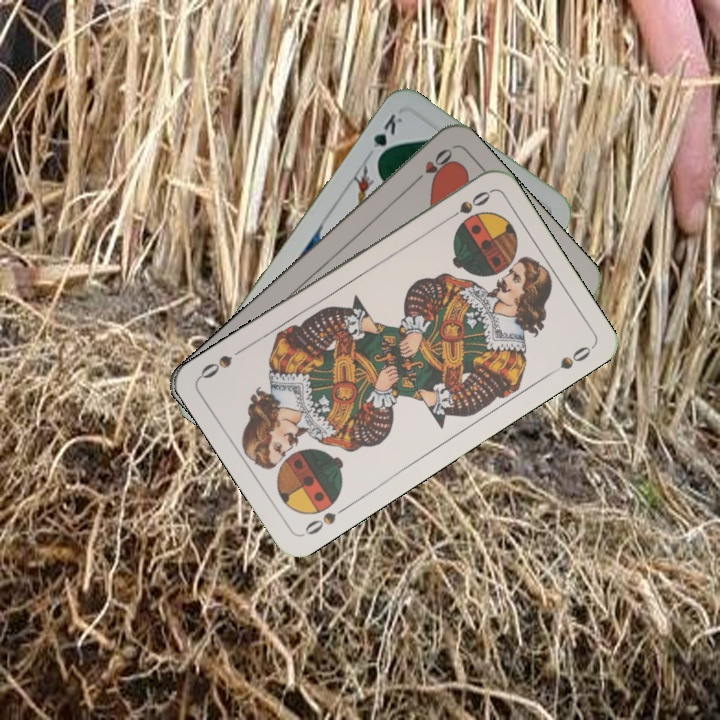GK: (369, 109, 407, 165)
HO: (407, 144, 455, 189)
SO: (441, 186, 494, 225), (300, 501, 352, 538)
